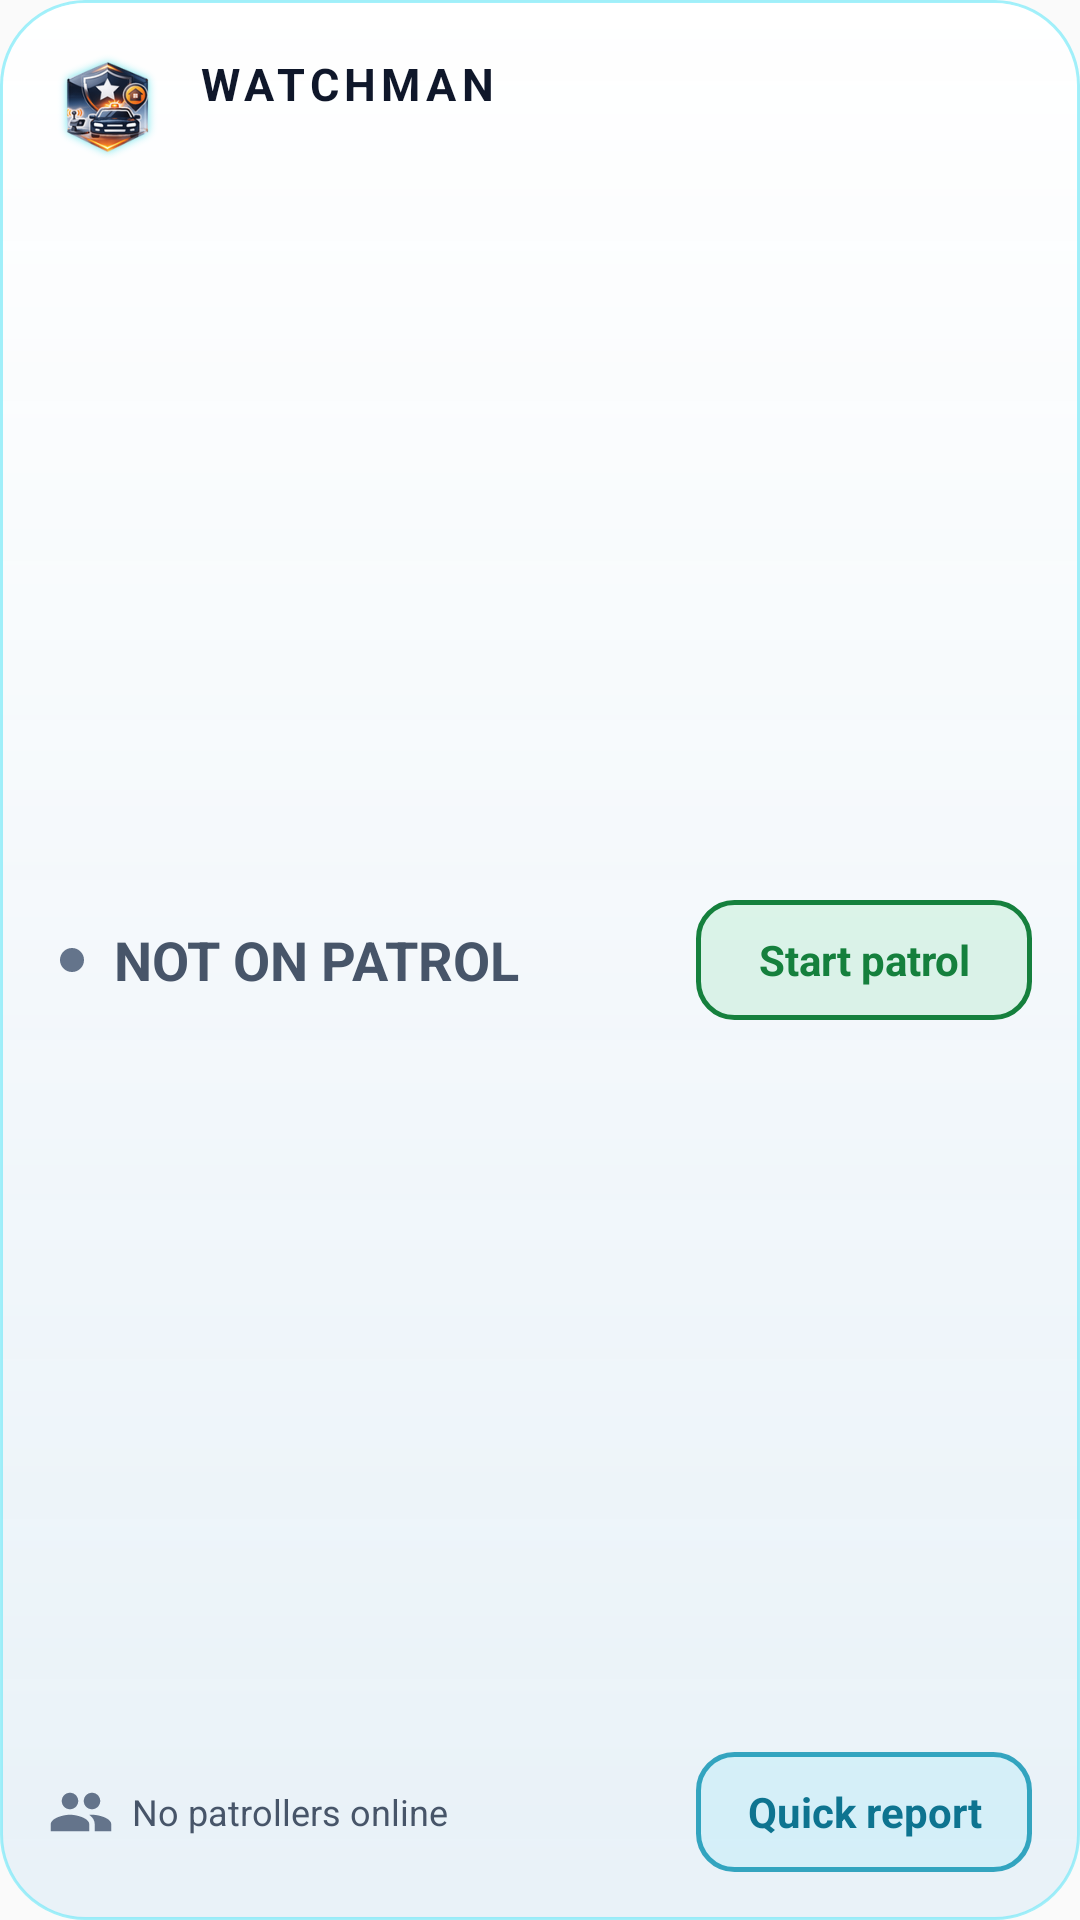

Named icons in this screenshot (1080 × 1920) and their bounding boxes, bbox=(x1, y1, x2, y2):
widget dot off: bbox=(60, 948, 84, 972)
widget people off: bbox=(50, 1792, 112, 1832)
